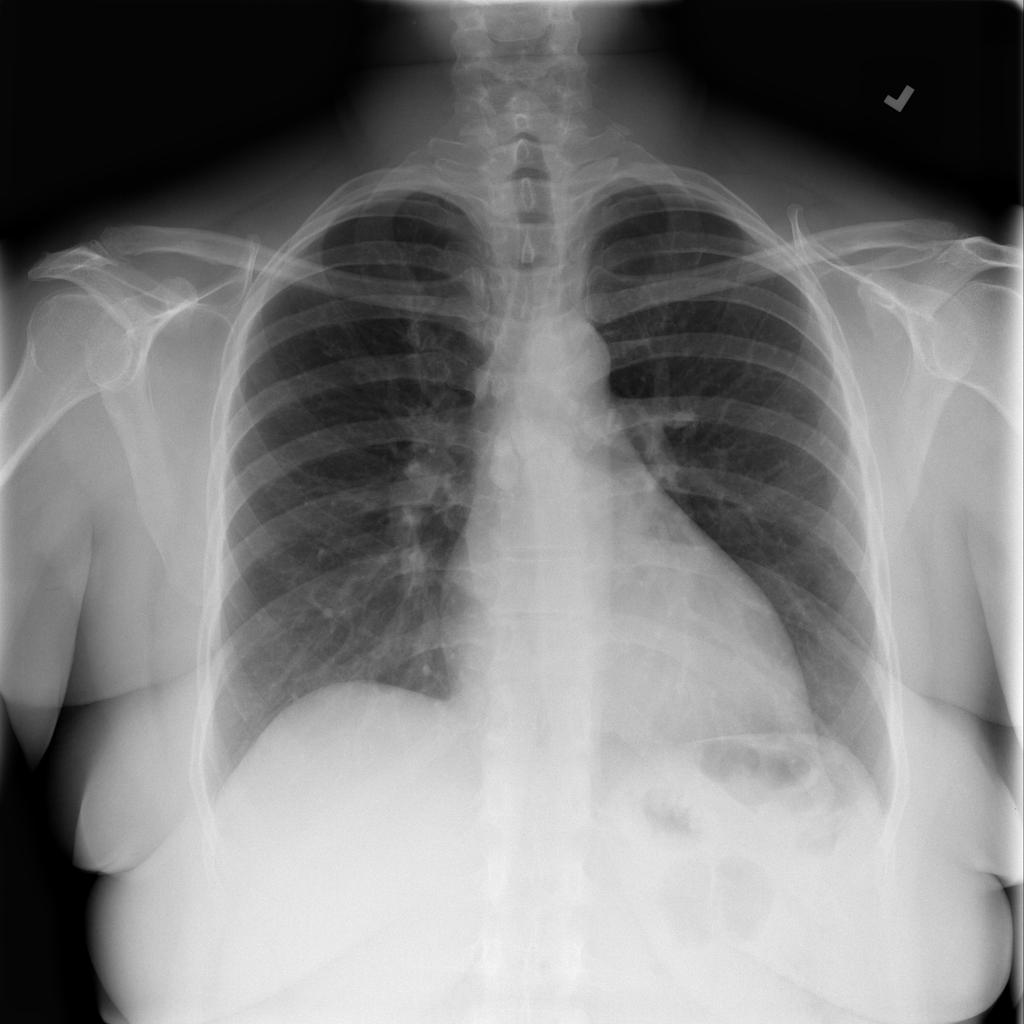nodule: (473, 423, 534, 501)
